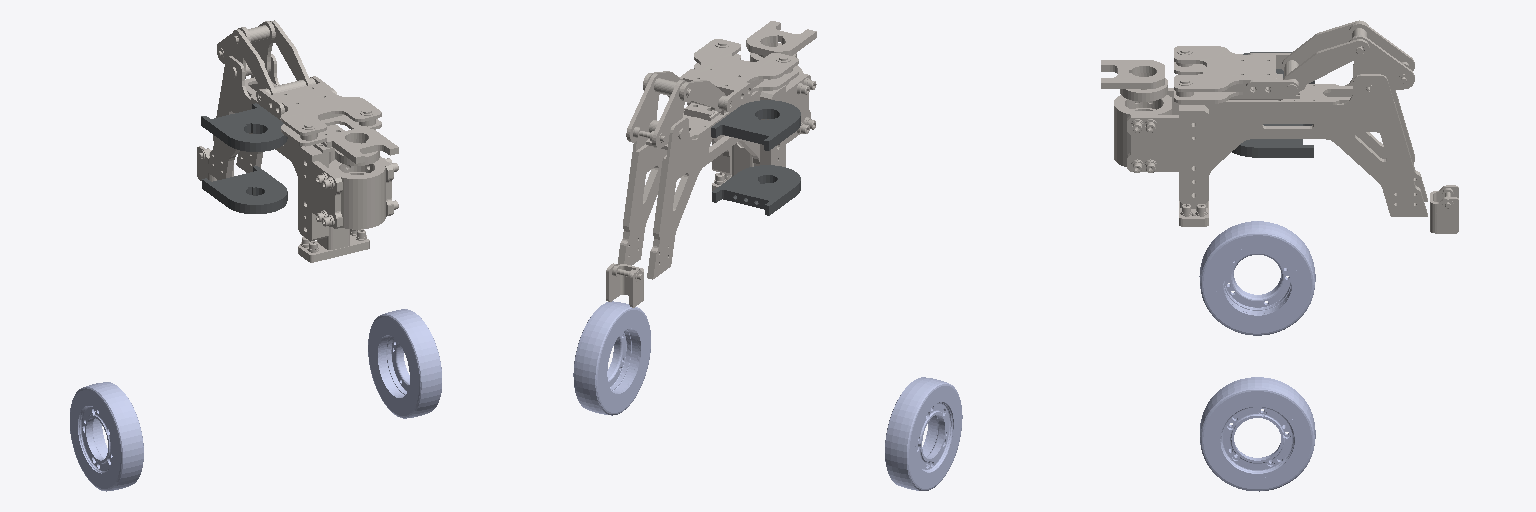
The robot description file, URDF, robot "amr200":
<?xml version="1.0" encoding="utf-8"?>
<!-- This URDF was automatically created by SolidWorks to URDF Exporter! Originally created by [author] ([email redacted]) 
     Commit Version: 1.6.0-1-g15f4949  Build Version: 1.6.7594.29634
     For more information, please see http://wiki.ros.org/sw_urdf_exporter -->
<robot
  name="amr200">
  <link
    name="base_link">
    <inertial>
      <origin
        xyz="0.591826000309447 -0.557247413980446 0.549054203761212"
        rpy="0 0 0" />
      <mass
        value="9.6780654312556" />
      <inertia
        ixx="0.302094300078041"
        ixy="0.000521782016370454"
        ixz="2.82277935969688E-05"
        iyy="0.0999603536554847"
        iyz="0.00313893989964867"
        izz="0.382281142814925" />
    </inertial>
    <visual>
      <origin
        xyz="0 0 0"
        rpy="0 0 0" />
      <geometry>
        <mesh
          filename="package://model_amr200/meshes/base_link.STL" />
      </geometry>
      <material
        name="">
        <color
          rgba="0.792156862745098 0.819607843137255 0.933333333333333 1" />
      </material>
    </visual>
    <collision>
      <origin
        xyz="0 0 0"
        rpy="0 0 0" />
      <geometry>
        <mesh
          filename="package://model_amr200/meshes/base_link.STL" />
      </geometry>
    </collision>
  </link>
  <link
    name="frame">
    <inertial>
      <origin
        xyz="-0.0671935262415717 0.0403329385652428 -0.0695871087885918"
        rpy="0 0 0" />
      <mass
        value="27.9333637848343" />
      <inertia
        ixx="0.95649420593279"
        ixy="-1.78483571525282E-05"
        ixz="-0.0184023024722659"
        iyy="0.656181689126027"
        iyz="-2.12395692074284E-06"
        izz="0.442112015955037" />
    </inertial>
    <visual>
      <origin
        xyz="0 0 0"
        rpy="0 0 0" />
      <geometry>
        <mesh
          filename="package://model_amr200/meshes/frame.STL" />
      </geometry>
      <material
        name="">
        <color
          rgba="0.776470588235294 0.756862745098039 0.737254901960784 1" />
      </material>
    </visual>
    <collision>
      <origin
        xyz="0 0 0"
        rpy="0 0 0" />
      <geometry>
        <mesh
          filename="package://model_amr200/meshes/frame.STL" />
      </geometry>
    </collision>
  </link>
  <joint
    name="frame"
    type="fixed">
    <origin
      xyz="0.631858868867909 -0.61588363481978 0.731952395115812"
      rpy="1.57079632679493 1.5707963267949 0" />
    <parent
      link="base_link" />
    <child
      link="frame" />
    <axis
      xyz="0 0 0" />
  </joint>
  <link
    name="LW">
    <inertial>
      <origin
        xyz="-0.0195390545275618 -1.16657794535513E-11 -9.24837983973248E-12"
        rpy="0 0 0" />
      <mass
        value="0.49539547892276" />
      <inertia
        ixx="0.00194297088556916"
        ixy="-6.13209093222297E-14"
        ixz="-4.43946267550625E-14"
        iyy="0.00102758645982069"
        iyz="-3.23940227708641E-07"
        izz="0.0010277599239662" />
    </inertial>
    <visual>
      <origin
        xyz="0 0 0"
        rpy="0 0 0" />
      <geometry>
        <mesh
          filename="package://model_amr200/meshes/LW.STL" />
      </geometry>
      <material
        name="">
        <color
          rgba="0.792156862745098 0.819607843137255 0.933333333333333 1" />
      </material>
    </visual>
    <collision>
      <origin
        xyz="0 0 0"
        rpy="0 0 0" />
      <geometry>
        <mesh
          filename="package://model_amr200/meshes/LW.STL" />
      </geometry>
    </collision>
  </link>
  <joint
    name="LWREV"
    type="continuous">
    <!-- xyz="0.82086 -0.54013 0.47375" -->
    <origin
      xyz="0.82086 -0.54013 0.46375"
      rpy="-1.9564 0 3.1416" />
    <parent
      link="base_link" />
    <child
      link="LW" />
    <axis
      xyz="1 0 0" />
  </joint>
  <link
    name="RW">
    <inertial>
      <origin
        xyz="0.0185609454724386 -1.16702203456498E-11 -9.25326482104083E-12"
        rpy="0 0 0" />
      <mass
        value="0.495395478922763" />
      <inertia
        ixx="0.00194297088556917"
        ixy="-6.13218757447502E-14"
        ixz="-4.43946060700397E-14"
        iyy="0.0010275864598207"
        iyz="-3.23940227706256E-07"
        izz="0.00102775992396621" />
    </inertial>
    <visual>
      <origin
        xyz="0 0 0"
        rpy="0 0 0" />
      <geometry>
        <mesh
          filename="package://model_amr200/meshes/RW.STL" />
      </geometry>
      <material
        name="">
        <color
          rgba="0.792156862745098 0.819607843137255 0.933333333333333 1" />
      </material>
    </visual>
    <collision>
      <origin
        xyz="0 0 0"
        rpy="0 0 0" />
      <geometry>
        <mesh
          filename="package://model_amr200/meshes/RW.STL" />
      </geometry>
    </collision>
  </link>
  <joint
    name="RWREV"
    type="continuous">
    <origin
      xyz="0.324758868867922 -0.540127106828764 0.46375239664199"
      rpy="-1.20140734527068 0 0" />
    <parent
      link="base_link" />
    <child
      link="RW" />
    <axis
      xyz="1 0 0" />
  </joint>
  <link
    name="joint">
    <inertial>
      <origin
        xyz="6.66133814775094E-16 -0.0141150868372225 -0.0422416115938201"
        rpy="0 0 0" />
      <mass
        value="1.93083219726693" />
      <inertia
        ixx="0.00186476383370406"
        ixy="-3.78971171132593E-18"
        ixz="-1.20192444656853E-19"
        iyy="0.00145056434720969"
        iyz="4.76575126821083E-19"
        izz="0.00324241706968352" />
    </inertial>
    <visual>
      <origin
        xyz="0 0 0"
        rpy="0 0 0" />
      <geometry>
        <mesh
          filename="package://model_amr200/meshes/joint.STL" />
      </geometry>
      <material
        name="">
        <color
          rgba="0.407843137254902 0.419607843137255 0.431372549019608 1" />
      </material>
    </visual>
    <collision>
      <origin
        xyz="0 0 0"
        rpy="0 0 0" />
      <geometry>
        <mesh
          filename="package://model_amr200/meshes/joint.STL" />
      </geometry>
    </collision>
  </link>
  <joint
    name="jointC"
    type="revolute">
    <origin
      xyz="0.59186 -0.53903 0.87895"
      rpy="0 0 3.1416" />
    <parent
      link="base_link" />
    <child
      link="joint" />
    <axis
      xyz="0 0 1" />
    <limit
      lower="-1.57"
      upper="1.57"
      effort="0"
      velocity="0" />
  </joint>
  <link
    name="Towing_link">
    <inertial>
      <origin
        xyz="0.0405208382305904 -0.20344303021176 0.0340649066715726"
        rpy="0 0 0" />
      <mass
        value="11.9422853939699" />
      <inertia
        ixx="0.0922719845531409"
        ixy="-0.016907604218614"
        ixz="1.83382601427536E-06"
        iyy="0.0650973819142662"
        iyz="-7.66167201847402E-06"
        izz="0.137728691570108" />
    </inertial>
    <visual>
      <origin
        xyz="0 0 0"
        rpy="0 0 0" />
      <geometry>
        <mesh
          filename="package://model_amr200/meshes/Towing_link.STL" />
      </geometry>
      <material
        name="">
        <color
          rgba="1 1 1 1" />
      </material>
    </visual>
    <collision>
      <origin
        xyz="0 0 0"
        rpy="0 0 0" />
      <geometry>
        <mesh
          filename="package://model_amr200/meshes/Towing_link.STL" />
      </geometry>
    </collision>
  </link>
  <joint
    name="Towing_link"
    type="fixed">
    <origin
      xyz="0.033700000000024 -0.6825 -0.0550000000000008"
      rpy="1.5707963267949 1.24515578310547 -1.57079632679486" />
    <parent
      link="joint" />
    <child
      link="Towing_link" />
    <axis
      xyz="0 0 0" />
  </joint>
  <gazebo>
      <plugin filename="libgazebo_ros_diff_drive.so" name="differential_drive_controller">
          <legacyMode>true</legacyMode>
          <alwaysOn>true</alwaysOn>
          <updateRate>20</updateRate>
          <leftJoint>LWREV</leftJoint>
          <rightJoint>RWREV</rightJoint>
          <wheelSeparation>0.4961</wheelSeparation>
          <wheelDiameter>0.1564</wheelDiameter>
          <wheelAcceleration>1.0</wheelAcceleration>
          <wheelTorque>20</wheelTorque>
          <commandTopic>cmd_vel</commandTopic>
          <odometryTopic>odom</odometryTopic>
          <odometryFrame>odom</odometryFrame>
          <robotBaseFrame>base_link</robotBaseFrame>
          <odometrySource>world</odometrySource>
          <publishTf>true</publishTf>
          <publishWheelTF>true</publishWheelTF>
          <publishOdom>true</publishOdom>
          <publishOdomTF>true</publishOdomTF>
          <publishWheelJointState>true</publishWheelJointState>
      </plugin>
  </gazebo>
</robot>

--- What the picture shows (computed from the rendered views, not written in the file) ---
Views: 3 orthographic renders of the robot side by side, from view 1: azimuth 30°, elevation 25°; view 2: azimuth 150°, elevation 25°; view 3: azimuth 270°, elevation 25°.
Robot: amr200 — 6 links, 5 joints (1 revolute, 2 continuous, 2 fixed); root link base_link; default pose: every joint at zero.
Links seen in each view (by area): view 1: frame, LW, RW, joint; view 2: frame, RW, LW, joint; view 3: frame, LW, RW, joint.
Boxes of the visible links, x1,y1,x2,y2 form: frame: [197, 20, 398, 262]; LW: [368, 309, 441, 418]; RW: [70, 382, 143, 491]; joint: [201, 103, 287, 213]; frame: [606, 21, 816, 307]; RW: [885, 377, 962, 490]; LW: [573, 301, 650, 415]; joint: [711, 100, 800, 215]; frame: [1101, 20, 1458, 233]; LW: [1200, 377, 1315, 491]; RW: [1199, 221, 1315, 335]; joint: [1232, 52, 1314, 157].
Size in the robot's own frame: 0.5342 by 0.4827 by 0.6003 metres.
Meshes: 6 distinct files referenced, 4 mesh visuals loaded (4 binary STL); not drawn: 2 (reference not matched to a file when rendering).
